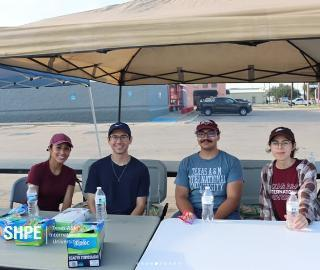person - v3 P: (173, 120, 243, 219), (260, 127, 319, 229), (85, 123, 149, 215), (27, 134, 76, 211)
